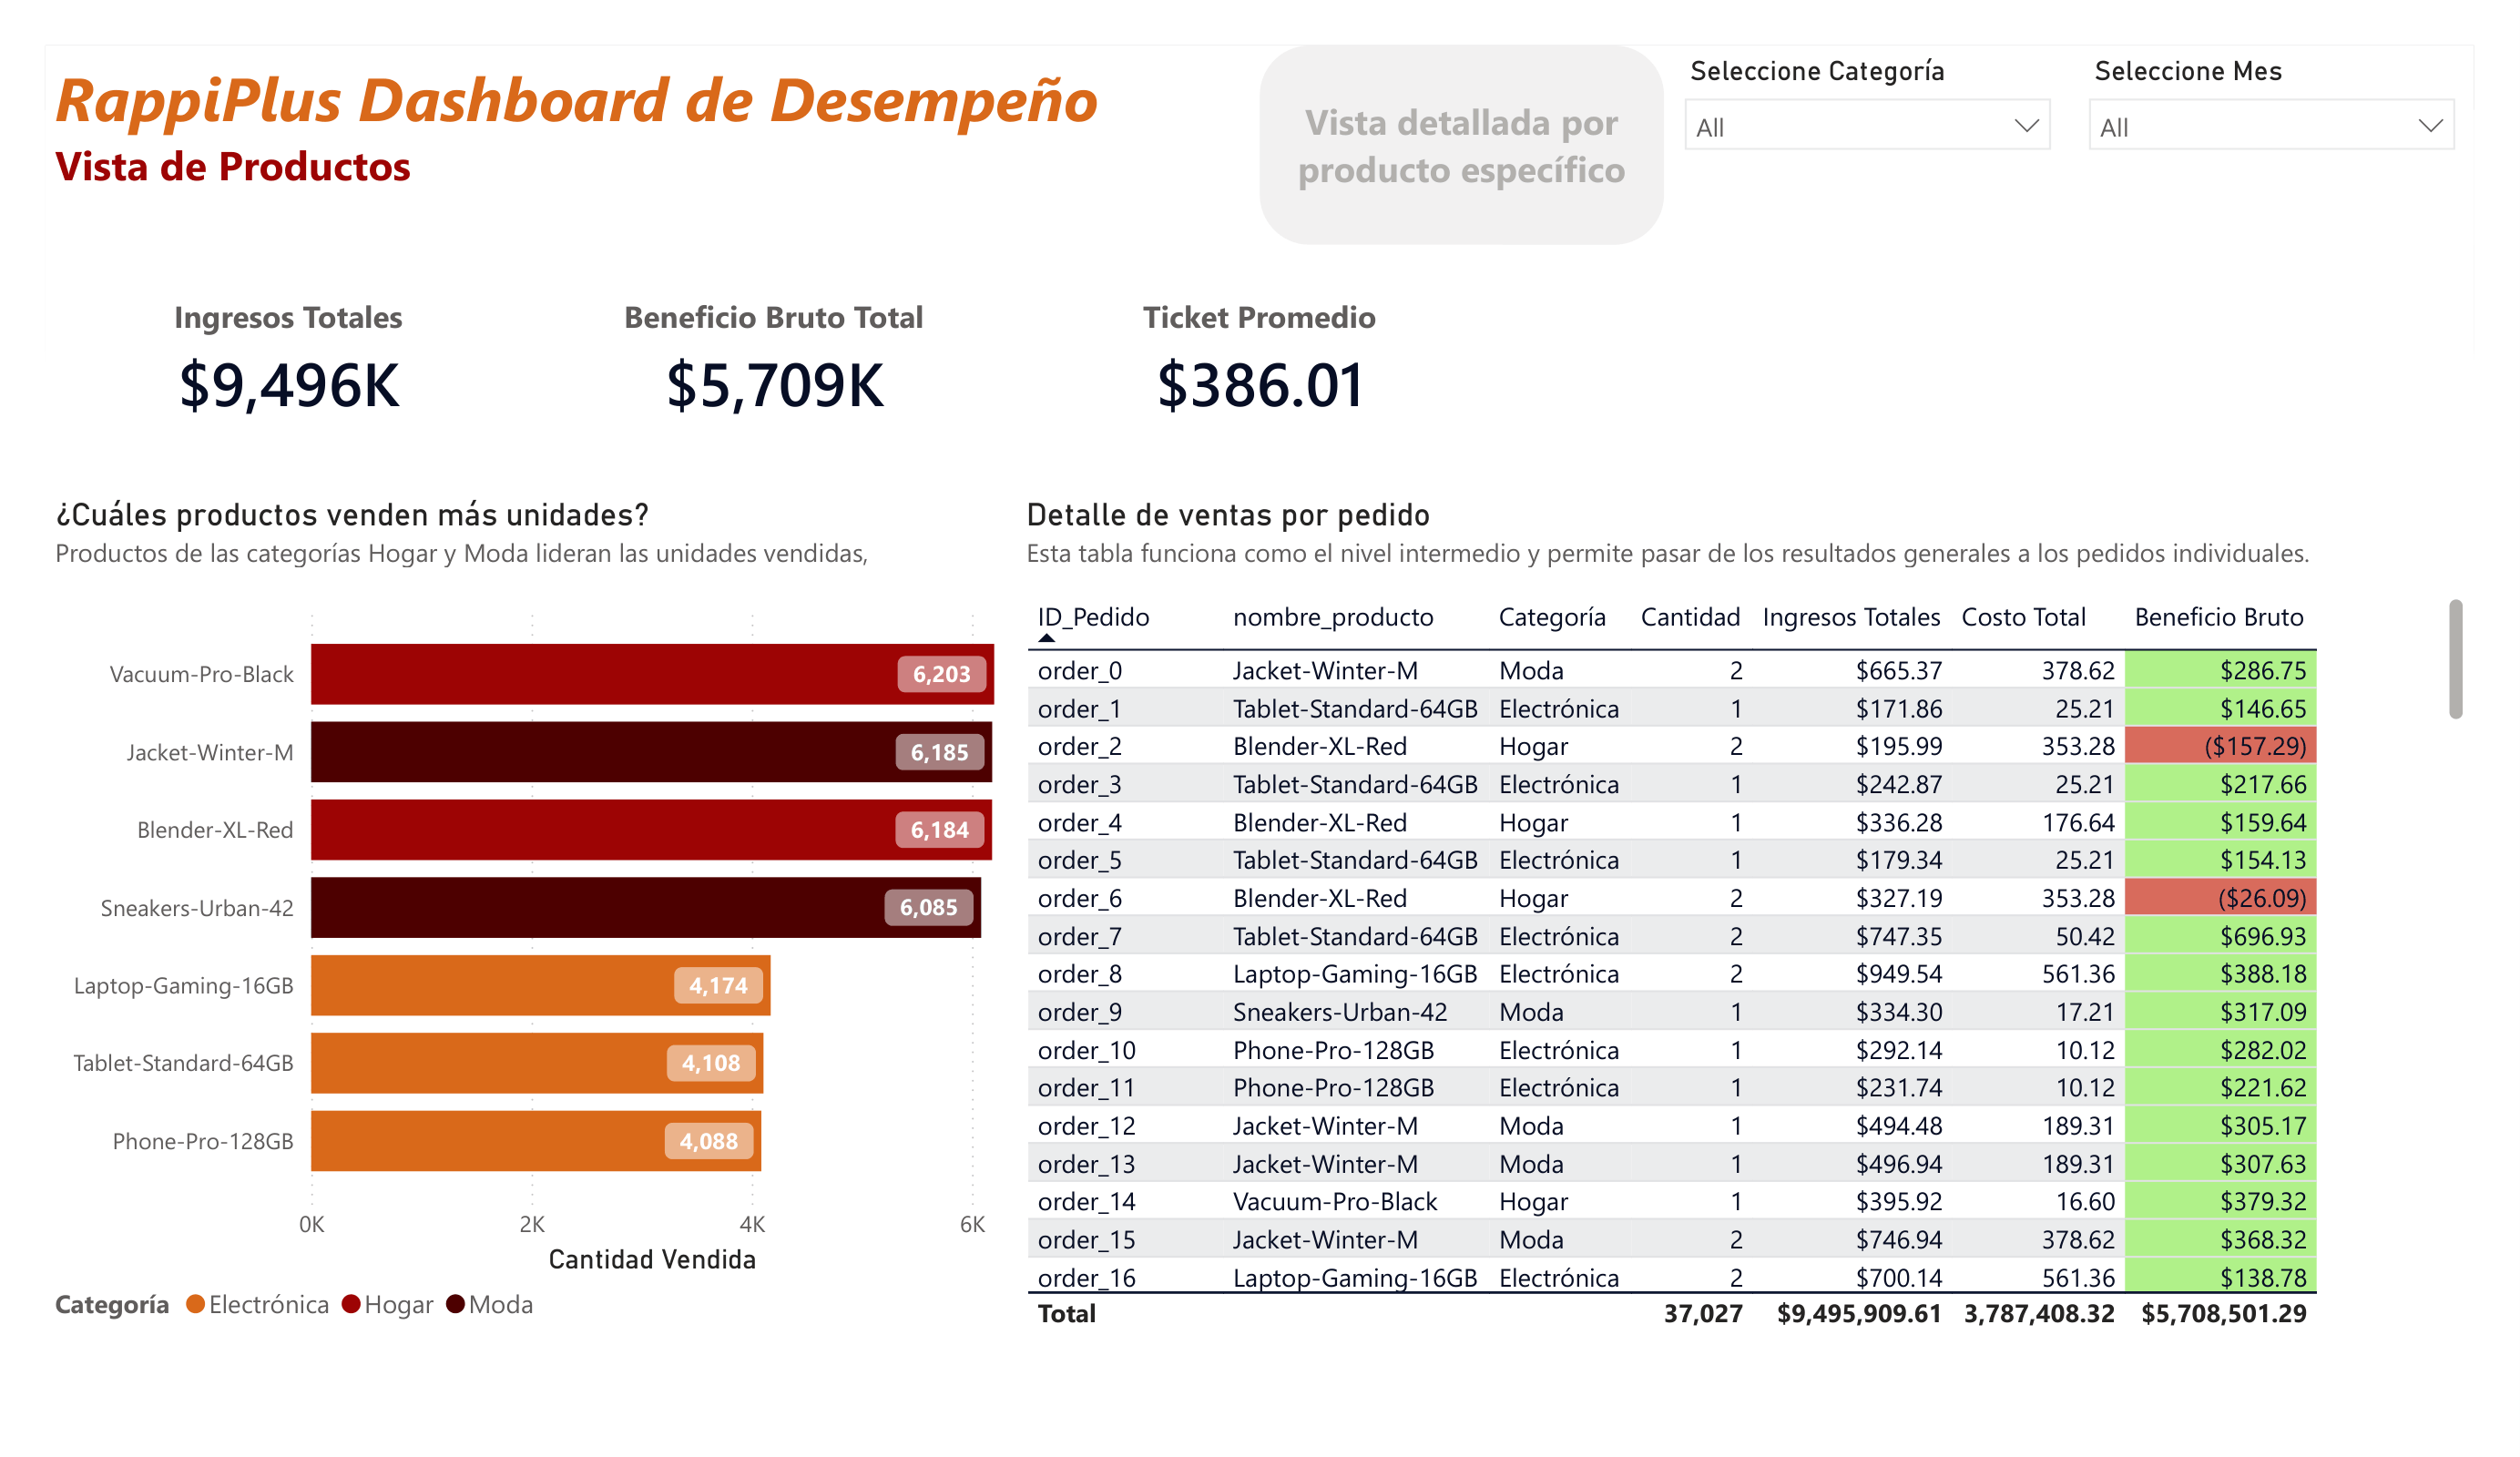

Layout of this report page (visuals, bound fields, positions):
{"tool":"powerbi","page":{"name":"Vista Detallada","canvas":[1280,720],"ordinal":1},"visuals":[{"type":"tableEx","title":"Detalle de ventas por pedido","fields":{"Values":["orders_clean.id_pedido","catalog_clean.nombre_producto","catalog_clean.categoria_producto","_Medidas.Cantidad Total","_Medidas.Ingresos Totales","_Medidas.Costo Total","_Medidas.Beneficio Bruto"]},"box":[512,237,768,445],"z":0},{"type":"barChart","title":"¿Cuáles productos venden más unidades?","fields":{"Category":["catalog_clean.nombre_producto"],"Y":["_Medidas.Cantidad Total"],"Series":["orders_clean.categoria_producto"]},"box":[0,237,512,445],"z":1000},{"type":"slicer","fields":{"Values":["catalog_clean.categoria_producto"]},"box":[854,0,213,105],"z":2000},{"type":"textbox","box":[0,0,640,105],"z":3000},{"type":"actionButton","box":[640,0,213,105],"z":4000},{"type":"slicer","fields":{"Values":["dim_fecha.Mes_nombre"]},"box":[1067,0,213,105],"z":5000},{"type":"cardVisual","fields":{"Data":["_Medidas.Ingresos Totales"]},"box":[0,105,256,120],"z":6000},{"type":"cardVisual","fields":{"Data":["_Medidas.Ticket Promedio"]},"box":[512,105,256,120],"z":7000},{"type":"cardVisual","fields":{"Data":["_Medidas.Beneficio Bruto"]},"box":[256,105,256,120],"z":8000}]}

Visuals, with their boxes on the page's 1280x720 design canvas (x1, y1, x2, y2). These are canvas units, not pixel positions in the 2520x1457 screenshot, which may show the page scaled, cropped or inside an application window:
"Detalle de ventas por pedido" tableEx: box=[512, 237, 1280, 682]
"¿Cuáles productos venden más unidades?" barChart: box=[0, 237, 512, 682]
slicer - catalog_clean.categoria_producto: box=[854, 0, 1067, 105]
textbox: box=[0, 0, 640, 105]
actionButton: box=[640, 0, 853, 105]
slicer - dim_fecha.Mes_nombre: box=[1067, 0, 1280, 105]
cardVisual - _Medidas.Ingresos Totales: box=[0, 105, 256, 225]
cardVisual - _Medidas.Ticket Promedio: box=[512, 105, 768, 225]
cardVisual - _Medidas.Beneficio Bruto: box=[256, 105, 512, 225]
